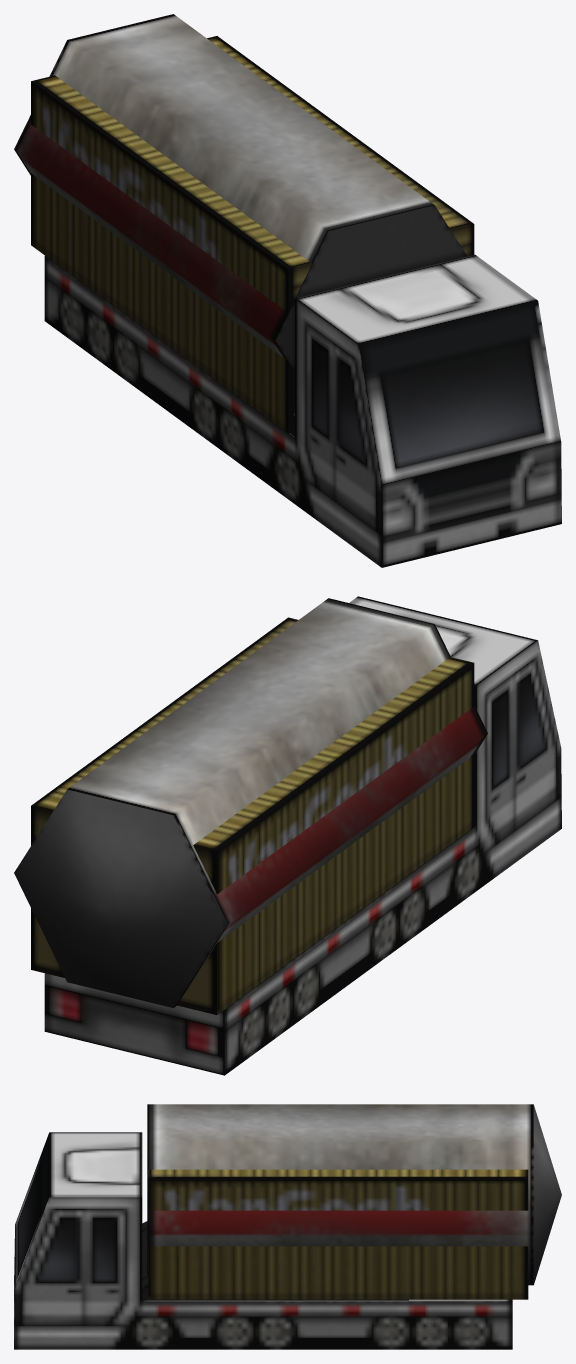
Rendered from scenecar_01.FBX.
3 views of the same model, one above another, from view 1: azimuth 30°, elevation 25°; view 2: azimuth 150°, elevation 25°; view 3: azimuth 270°, elevation 25° (orthographic). The views are drawn at different scales.
Visible parts, largest first — view 1: scenecar_04, scenecar_06, scenecar_05; view 2: scenecar_06, scenecar_04, scenecar_05; view 3: scenecar_04, scenecar_06, scenecar_05, scenecar_03.
Boxes of the visible parts, box(x1,y1,x2,y2) form: scenecar_04: box(44, 254, 561, 567); scenecar_06: box(14, 14, 467, 371); scenecar_05: box(31, 36, 474, 433); scenecar_06: box(14, 598, 487, 1007); scenecar_04: box(44, 596, 561, 1075); scenecar_05: box(31, 617, 474, 1014); scenecar_04: box(14, 1132, 512, 1349); scenecar_06: box(147, 1104, 561, 1285); scenecar_05: box(148, 1169, 528, 1299); scenecar_03: box(142, 1221, 408, 1300).
Bounding box in the file's own units: 551 × 648 × 1664.
